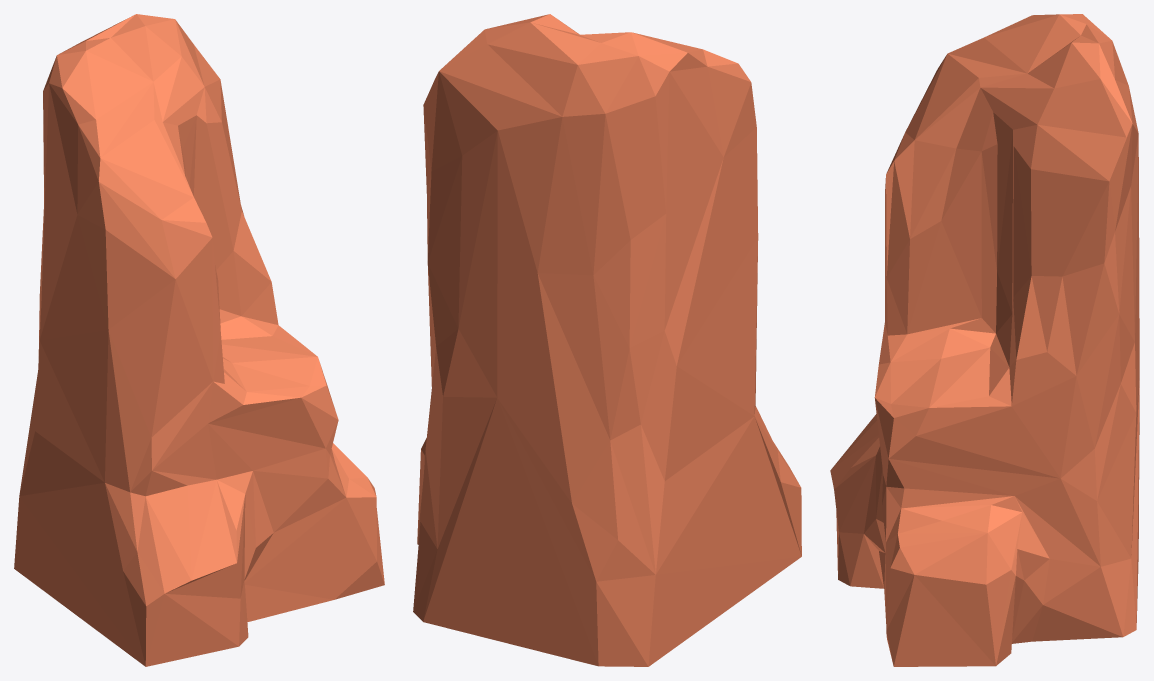
File: Pedra.fbx
3 renders of one model, left to right at view 1: azimuth 30°, elevation 25°; view 2: azimuth 150°, elevation 25°; view 3: azimuth 270°, elevation 25°, orthographic. The views are drawn at different scales.
Parts seen in each view (by area): view 1: Cube.003; view 2: Cube.003; view 3: Cube.003.
Boxes of the visible parts, x1,y1,x2,y2 form: Cube.003: (14, 14, 384, 666); Cube.003: (413, 14, 801, 666); Cube.003: (830, 14, 1139, 666).
Size of the model in its own units: 250 by 482 by 244.
1 material, 1 textured.
